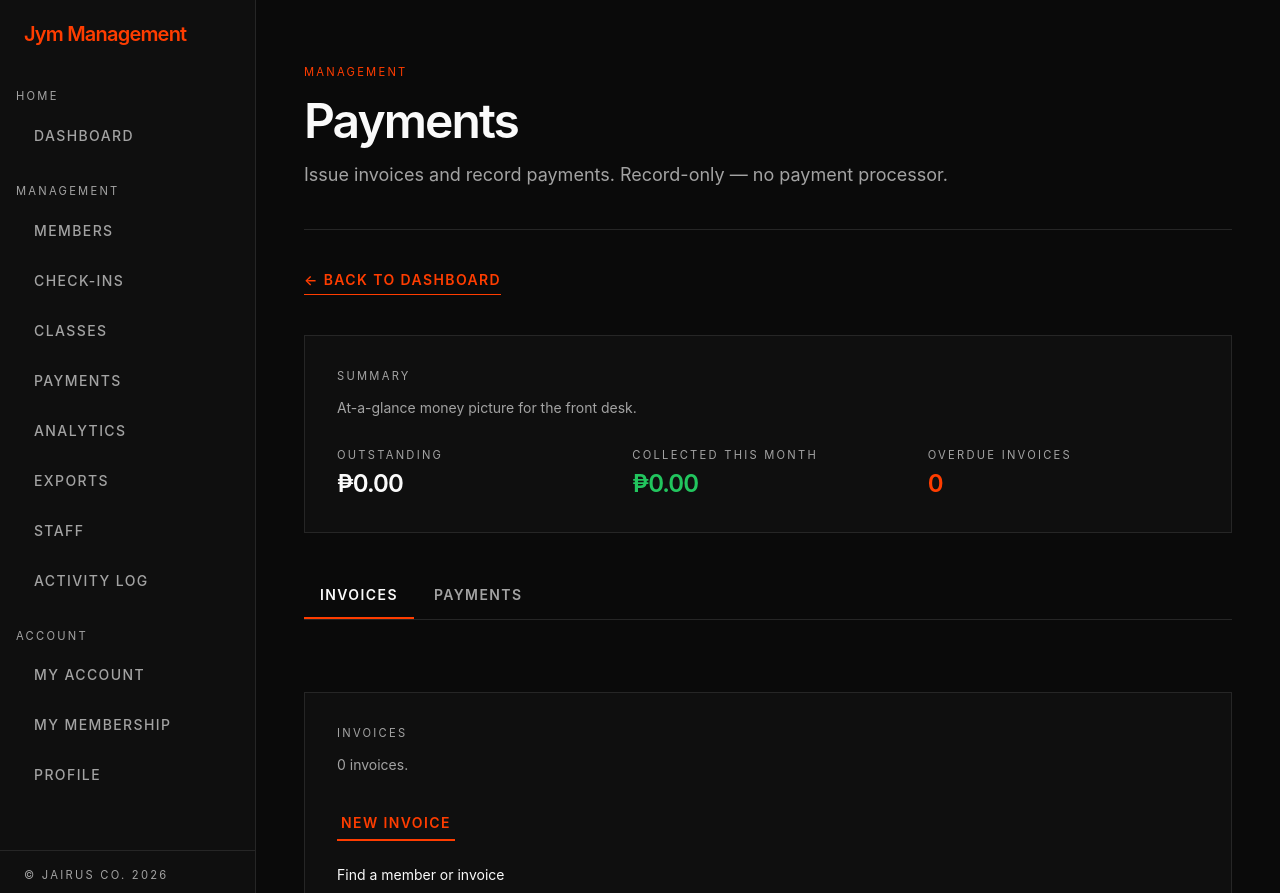
Test case: PaymentsPage › paginates the payments list
This screenshot has width=1280, height=893.
Click the tab "Payments". click: click(478, 596)
box: [418, 573, 538, 619]
(page scrolled)
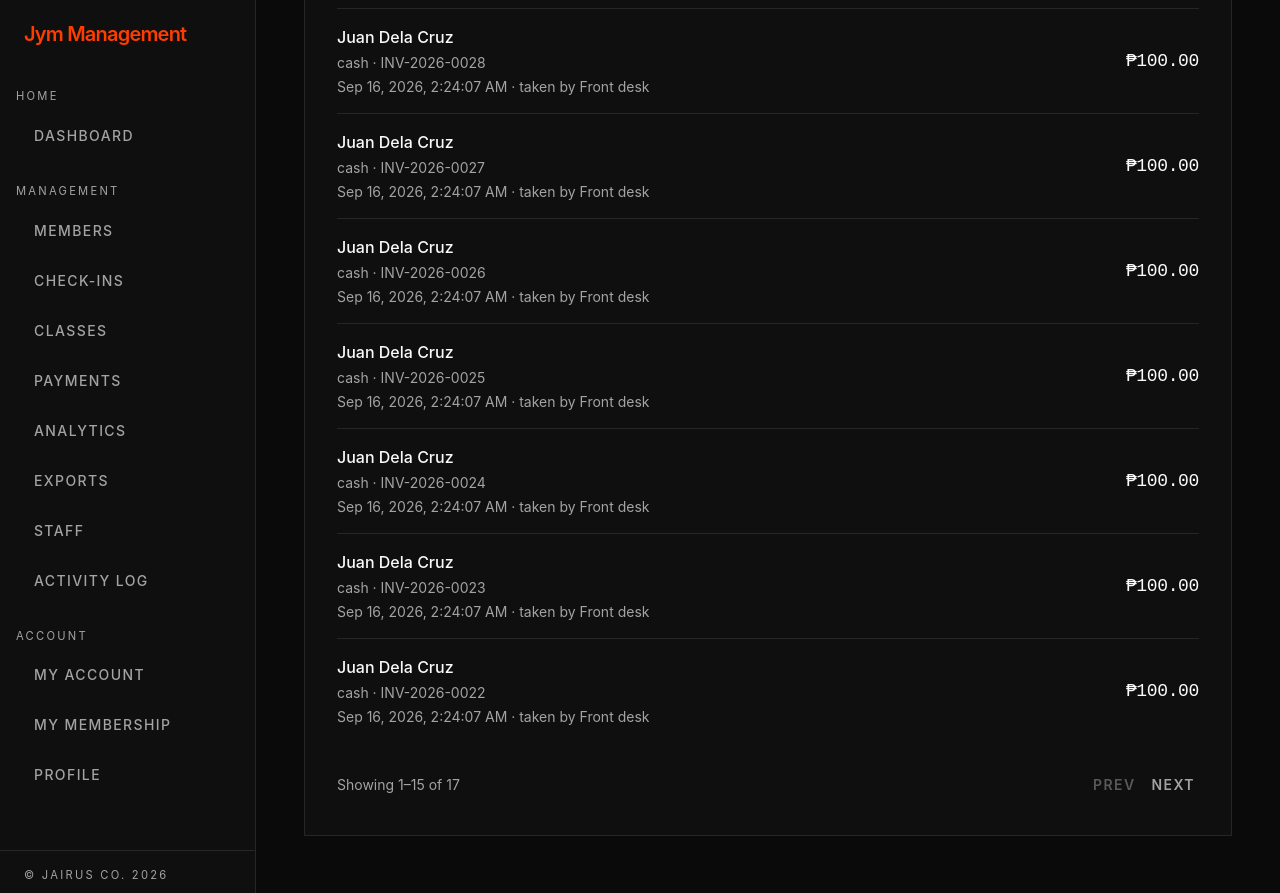
Now the text "Showing 1–15 of 17" is shown, box [337, 776, 460, 796]
Click the button "Next". click: click(1173, 786)
box: [1148, 768, 1199, 804]
(page scrolled)
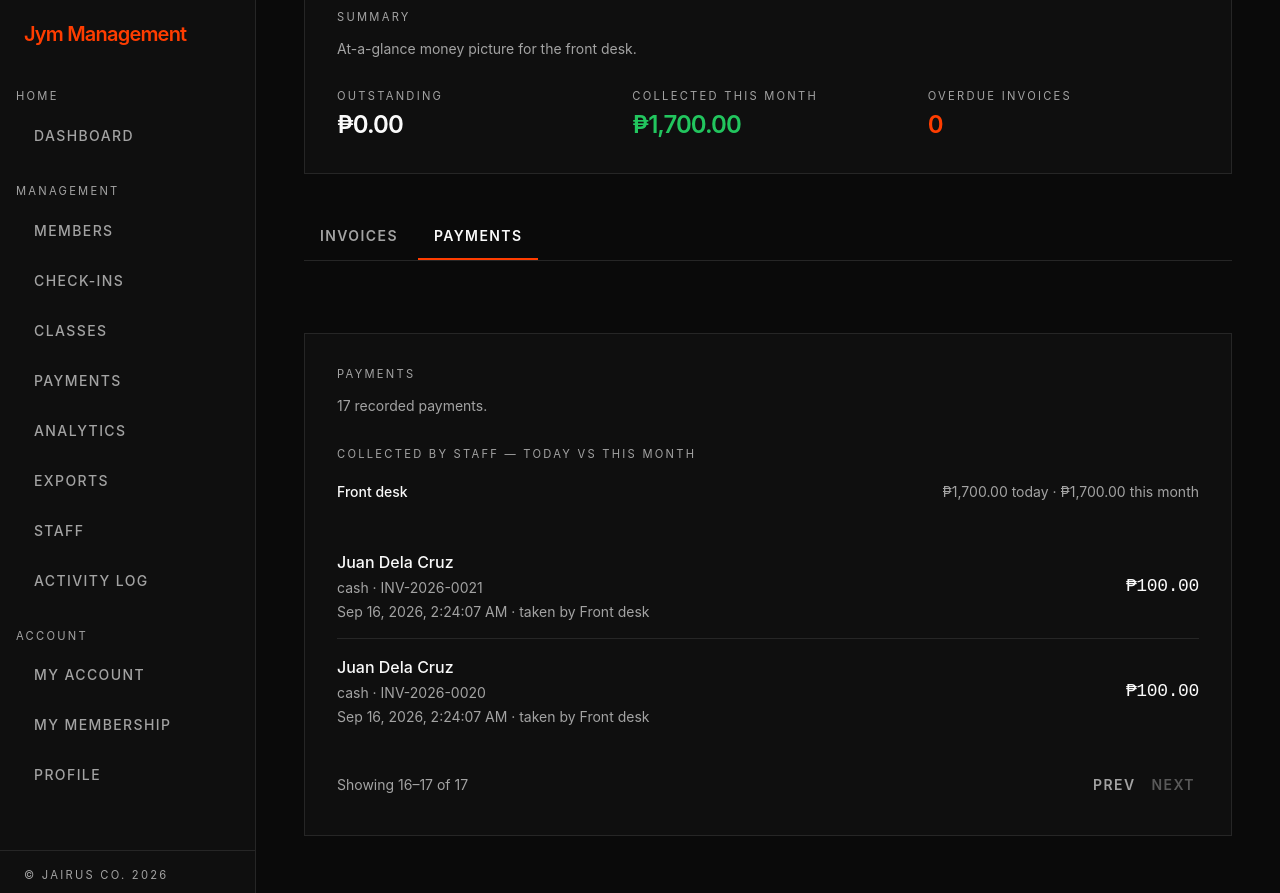
Now the text "Showing 16–17 of 17" is shown, box [337, 776, 468, 796]
